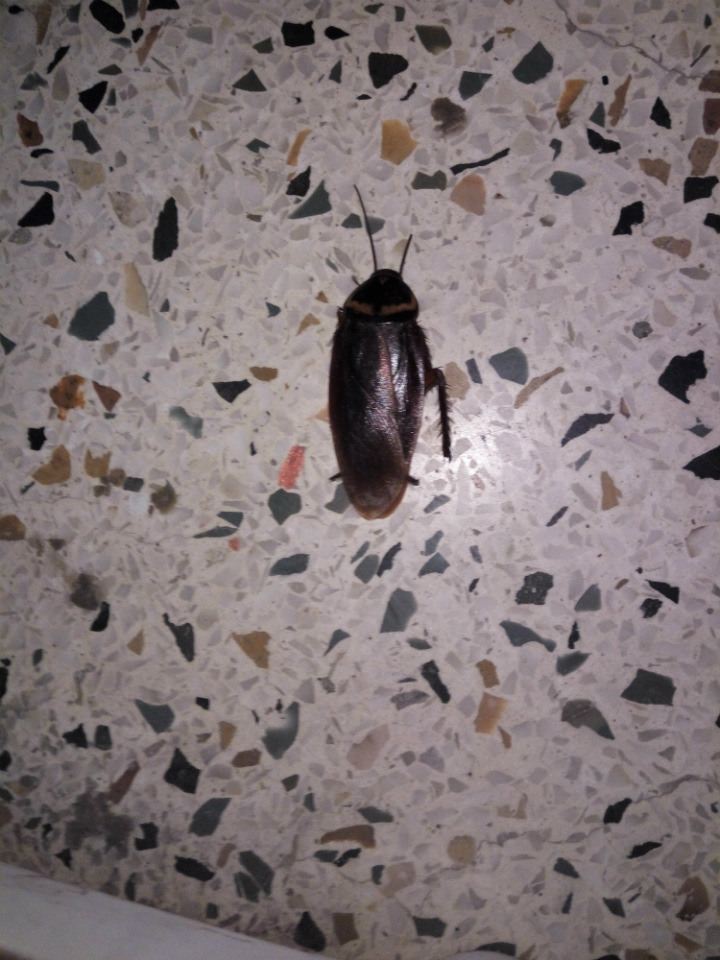cockroach: (281, 156, 482, 560)
